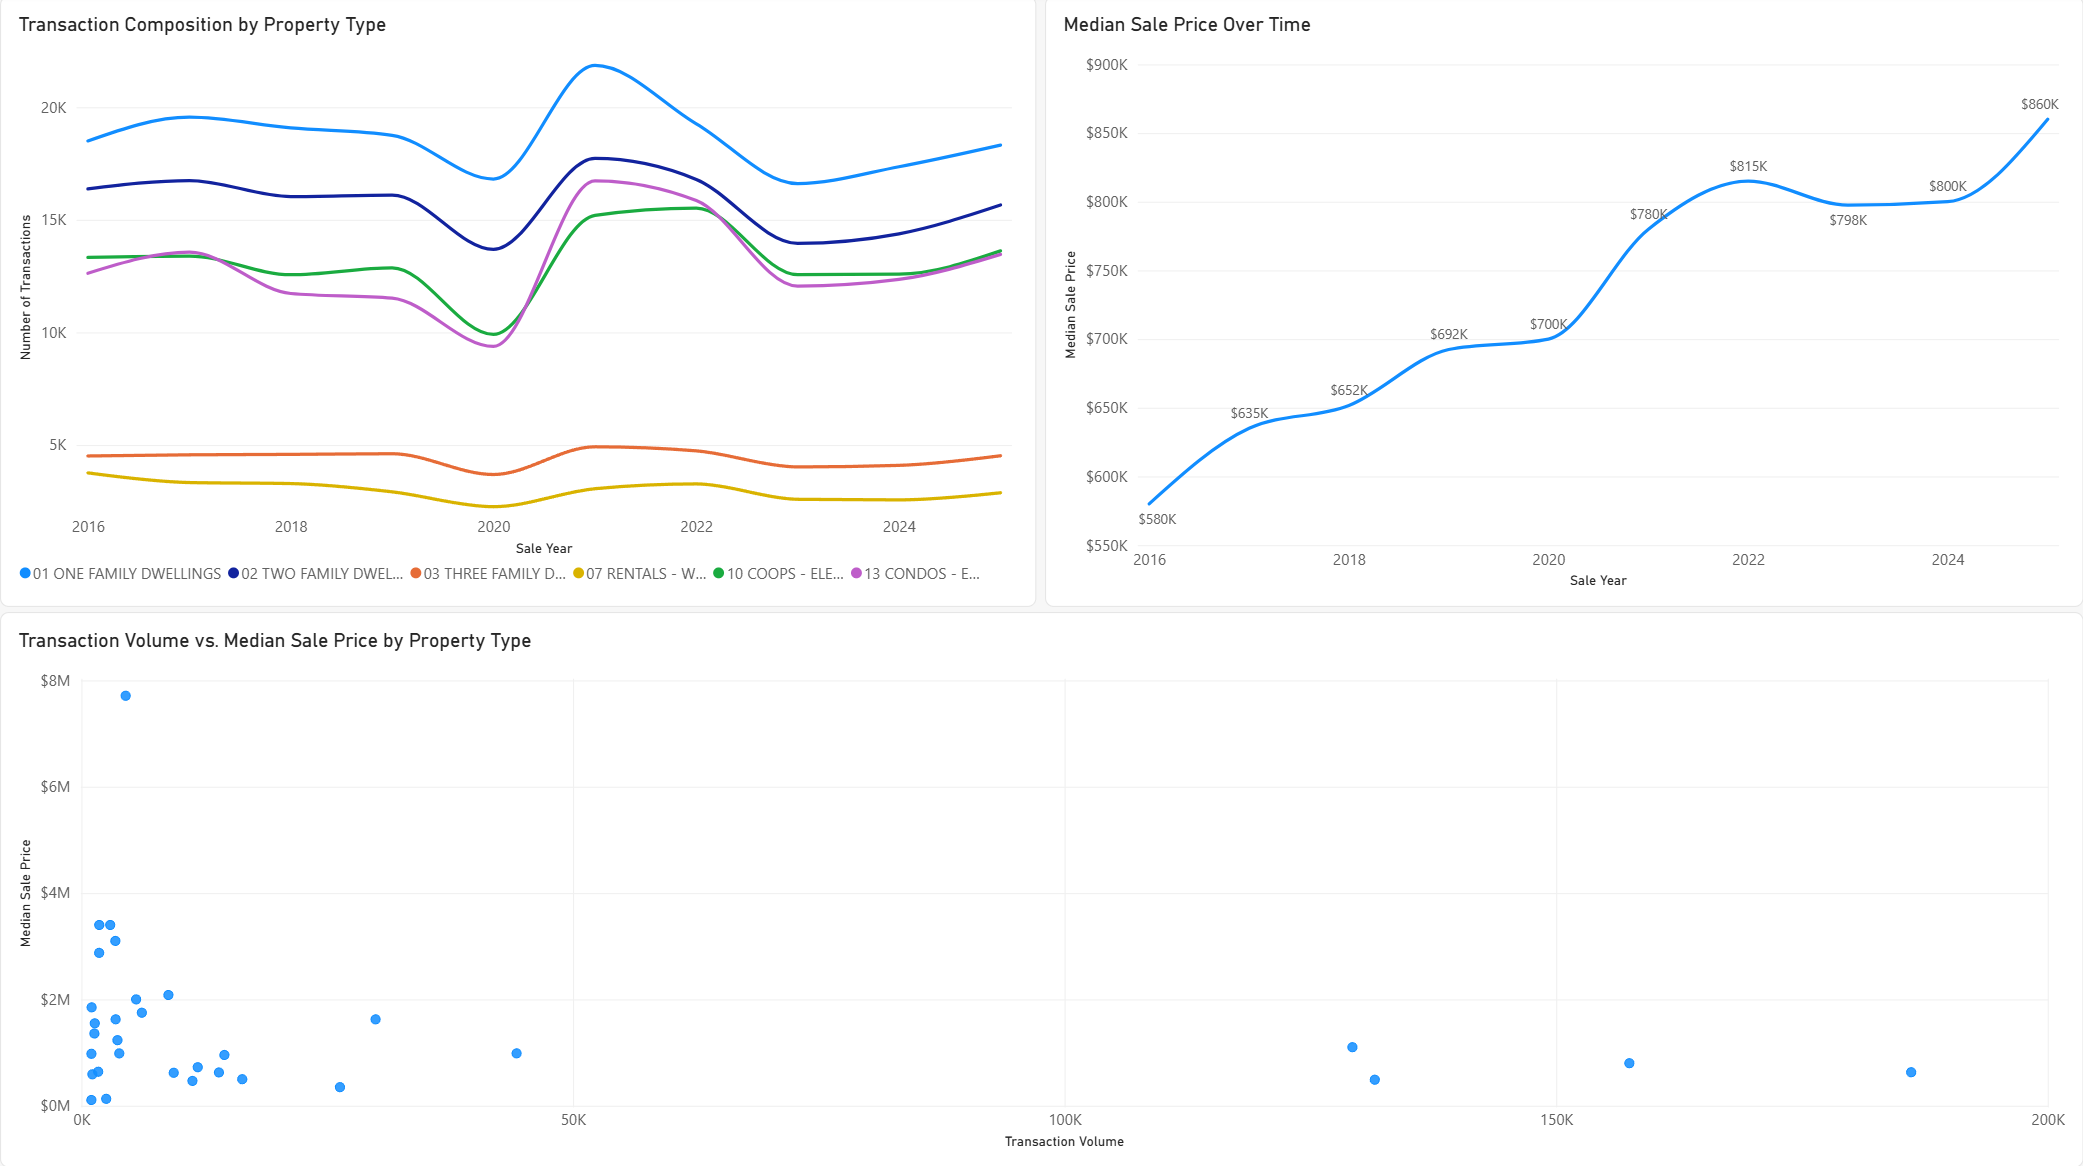

What the dashboard file says about the page in this screenshot:
{"tool":"powerbi","page":{"name":"Market Composition & Value","canvas":[1920,1080],"ordinal":1},"visuals":[{"type":"lineChart","title":"Transaction Composition by Property Type","fields":{"Category":["nyc_sales_property_cleaned.SALE DATE.Variation.Date Hierarchy.Year"],"Series":["nyc_sales_property_cleaned.BUILDING CLASS CATEGORY"],"Y":["nyc_sales_property_cleaned.Total Transactions"]},"box":[0,0,955,563],"z":0,"group":"g1"},{"type":"scatterChart","title":"Transaction Volume vs. Median Sale Price by Property Type","fields":{"Category":["nyc_sales_property_cleaned.BUILDING CLASS CATEGORY"],"X":["nyc_sales_property_cleaned.Total Transactions"],"Y":["nyc_sales_property_cleaned.Median Sale Price"]},"box":[0,568,1920,512],"z":0},{"type":"group","id":"g1","title":"Group 1","box":[0,0,1915,563],"z":1000},{"type":"lineChart","title":"Median Sale Price Over Time","fields":{"Category":["nyc_sales_property_cleaned.SALE DATE.Variation.Date Hierarchy.Year"],"Y":["nyc_sales_property_cleaned.Median Sale Price"]},"box":[960,0,955,563],"z":1000,"group":"g1"}]}

Visuals, with their boxes in screenshot pixels (x1, y1, x2, y2), scaled from the page's 1920x1080 canvas onto the 2083x1166 screenshot:
"Transaction Composition by Property Type" lineChart: [0, 0, 1036, 608]
"Transaction Volume vs. Median Sale Price by Property Type" scatterChart: [0, 613, 2082, 1165]
"Group 1" group: [0, 0, 2078, 608]
"Median Sale Price Over Time" lineChart: [1042, 0, 2078, 608]
